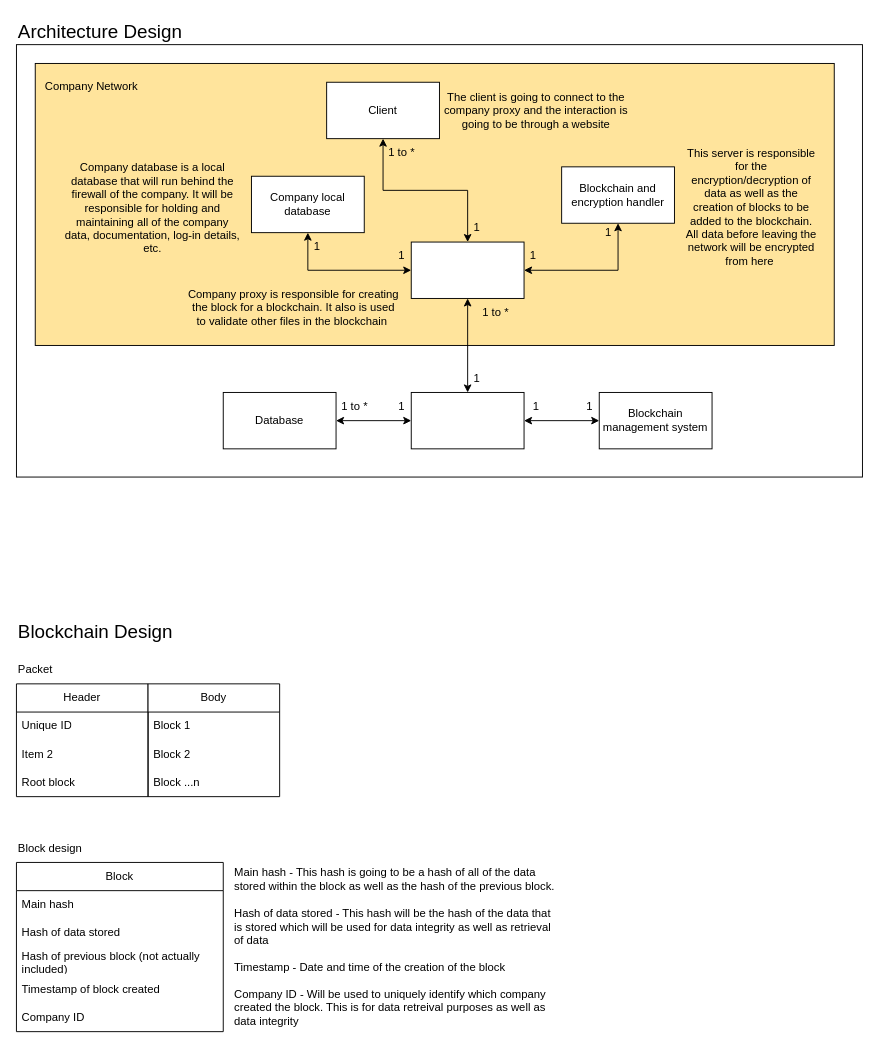
The diagram is 879 pixels wide and 1061 high, and some of its shapes have lost their labels. The shapes that lost their labels are listed below. From the top down, each one's centre as x and y in pixels, then its label:
pixel 467 269: Company proxy
pixel 467 420: Web-server
